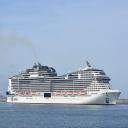cruises: (6, 60, 123, 107)
